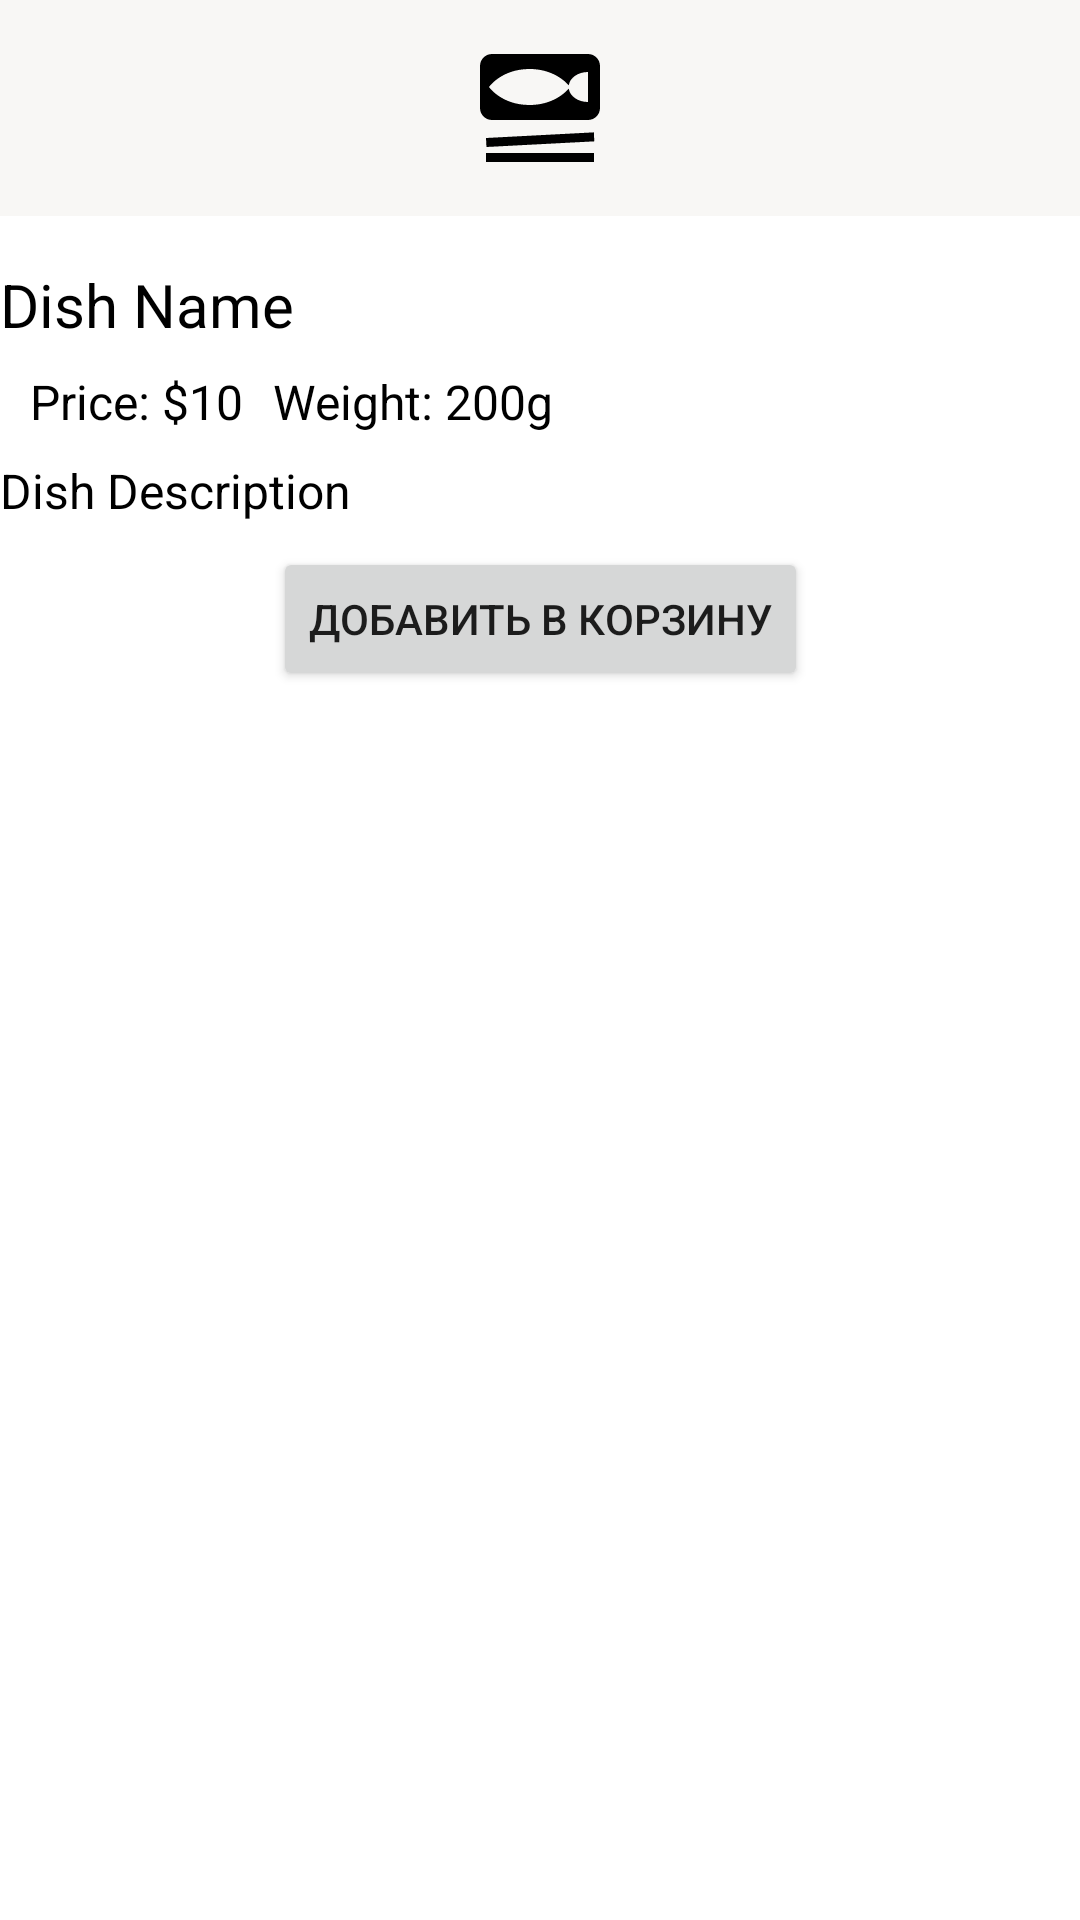

Where icons sit on this 1080×1920 app screen, as bbox=[x1, y1, x2, y2]:
картинка для блюда: bbox=[480, 54, 600, 162]
